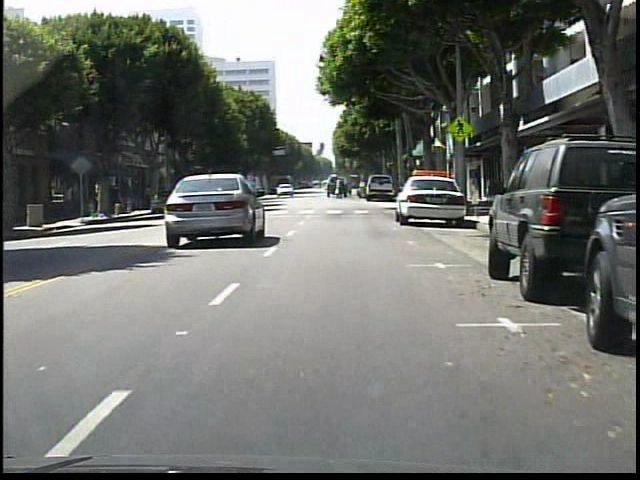person: (66, 183, 77, 217), (107, 188, 119, 218), (104, 186, 114, 215), (339, 176, 340, 198)
